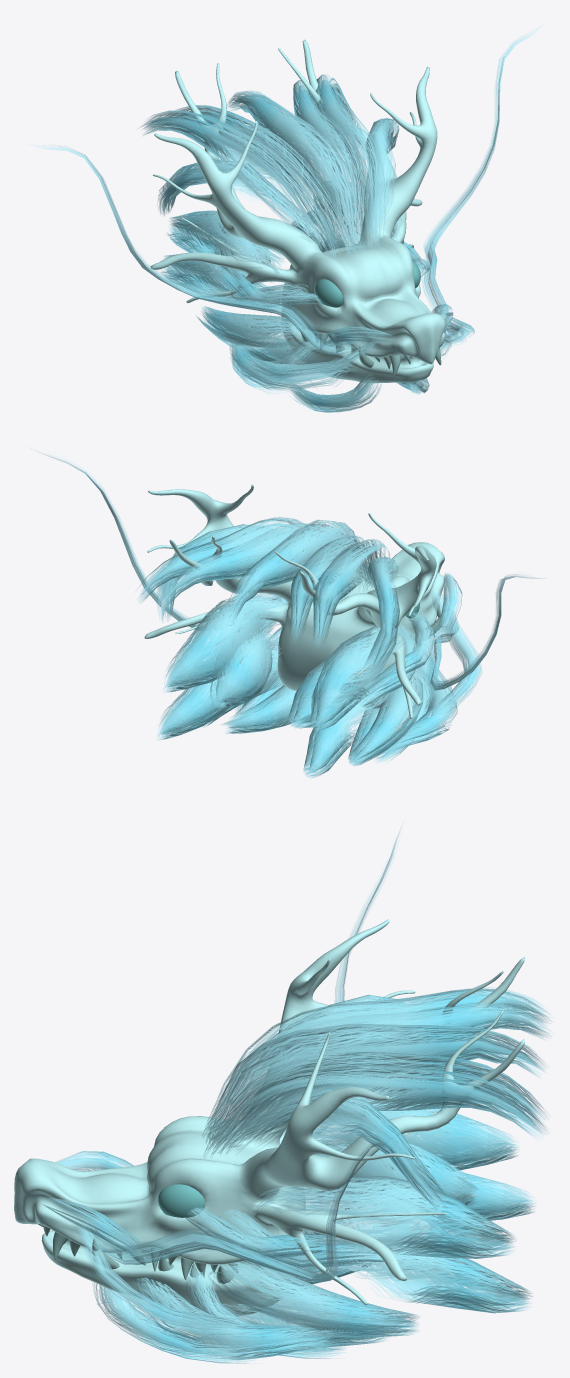
3 renders of one model, top to bottom at view 1: azimuth 30°, elevation 25°; view 2: azimuth 150°, elevation 25°; view 3: azimuth 270°, elevation 25°, orthographic. The views are drawn at different scales.
Visible parts, largest first — view 1: Extra hair.002, Head_low.002, normal hair.002, Moustache.002, Teeth.003, eyes.003; view 2: Extra hair.002, normal hair.002, Head_low.002, Moustache.002; view 3: Extra hair.002, normal hair.002, Head_low.002, Moustache.002, Teeth.003, eyes.003.
Part boxes in pixels (x1=…): Extra hair.002: x1=140, y1=74, x2=474, y2=412; Head_low.002: x1=150, y1=39, x2=445, y2=383; normal hair.002: x1=143, y1=80, x2=469, y2=406; Moustache.002: x1=32, y1=23, x2=544, y2=355; Teeth.003: x1=300, y1=325, x2=445, y2=376; eyes.003: x1=315, y1=260, x2=420, y2=307; Extra hair.002: x1=138, y1=517, x2=481, y2=778; normal hair.002: x1=141, y1=523, x2=475, y2=772; Head_low.002: x1=144, y1=484, x2=444, y2=718; Moustache.002: x1=39, y1=452, x2=541, y2=690; Extra hair.002: x1=44, y1=987, x2=552, y2=1363; normal hair.002: x1=44, y1=995, x2=544, y2=1355; Head_low.002: x1=14, y1=919, x2=524, y2=1316; Moustache.002: x1=75, y1=830, x2=400, y2=1282; Teeth.003: x1=38, y1=1224, x2=238, y2=1283; eyes.003: x1=158, y1=1184, x2=205, y2=1217.
Bounding box in the file's own units: 61.43 × 28.97 × 40.49.
Materials: 4 (1 with a texture image).
